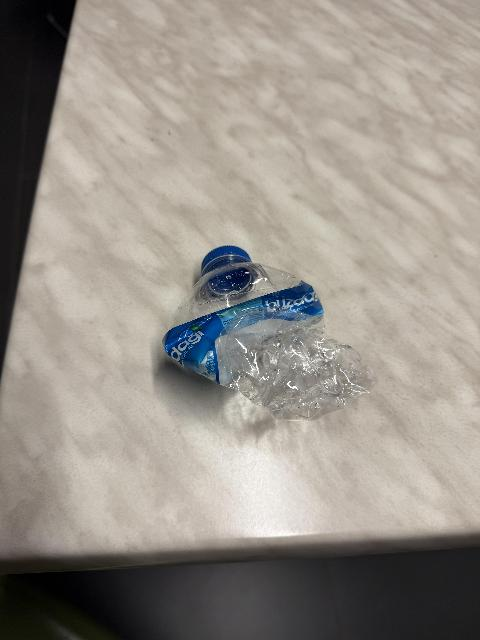Plastik: (165, 246, 371, 407)
